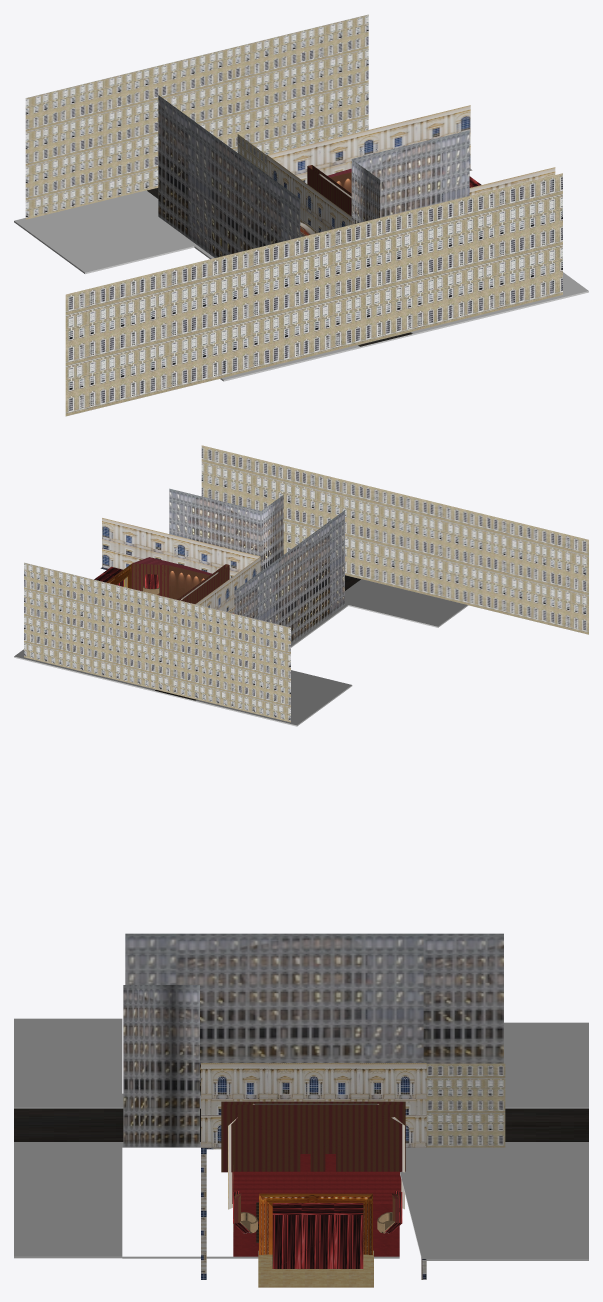
The model's file is ENVO_theatre.obj.
The picture shows the model from 3 angles, top to bottom: view 1: azimuth 30°, elevation 25°; view 2: azimuth 150°, elevation 25°; view 3: azimuth 270°, elevation 25°; orthographic projection. The views are drawn at different scales.
Parts seen in each view (by area): view 1: Theatre; view 2: Theatre; view 3: Theatre.
Part boxes in pixels (x1=…): Theatre: x1=14, y1=14, x2=588, y2=416; Theatre: x1=14, y1=445, x2=588, y2=726; Theatre: x1=14, y1=933, x2=588, y2=1287.
Size of what is drawn, in the model's own units: 10777 by 2756 by 7224.
Materials: 21 (20 with a texture image).
